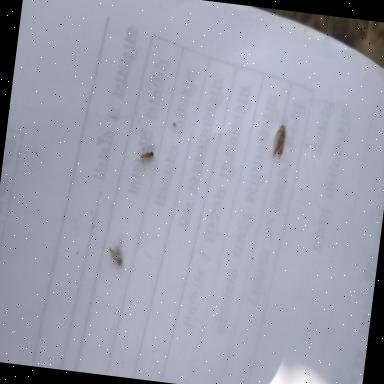pbw: (272, 124, 286, 158), (106, 244, 124, 264), (140, 150, 154, 160)
